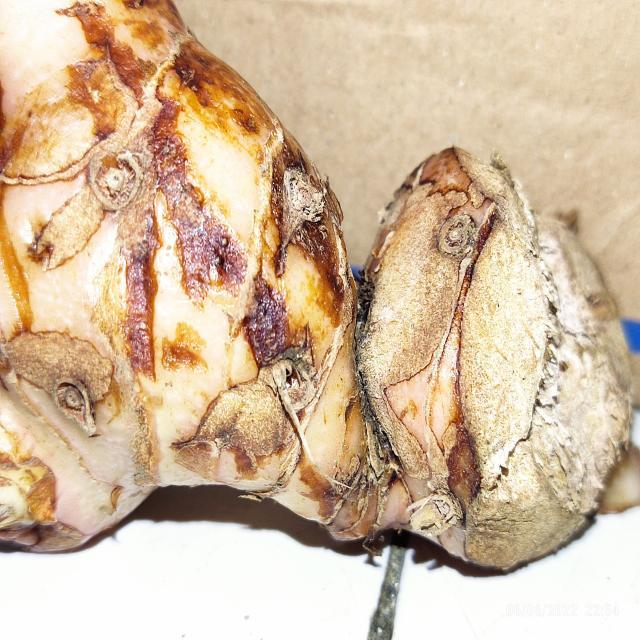ginger: (2, 8, 622, 564)
